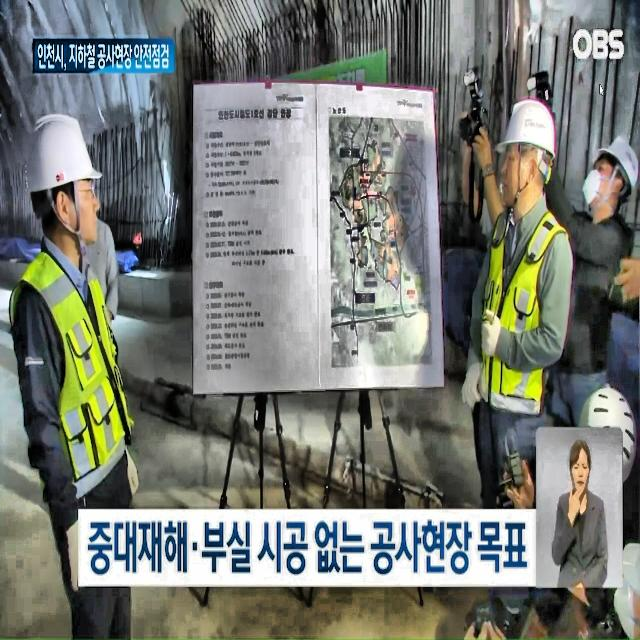safety_helmet: (499, 73, 575, 176), (21, 101, 90, 214), (580, 375, 640, 501), (595, 118, 640, 202)
safety_jacket: (16, 276, 136, 526), (477, 209, 569, 400)
